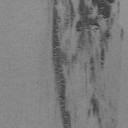slag inclusion: (51, 0, 116, 128), (88, 94, 101, 124), (89, 56, 96, 77), (120, 26, 124, 39)
